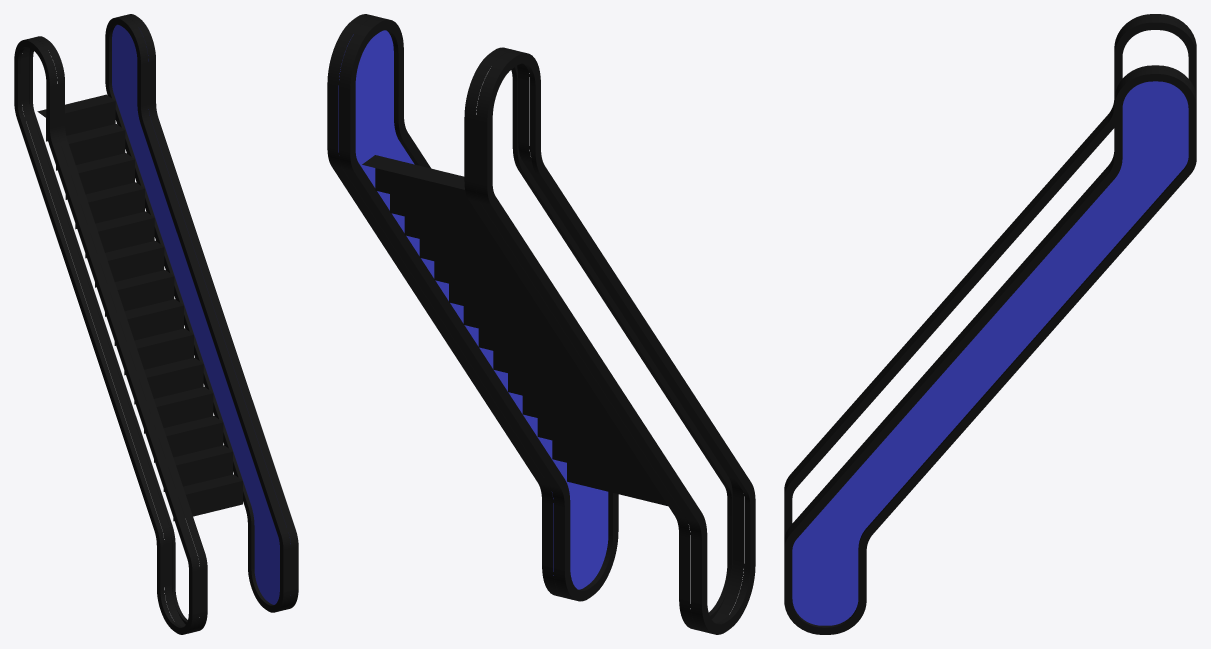
The model's file is downStair.dae.
3 views of the same model, side by side, from view 1: azimuth 30°, elevation 25°; view 2: azimuth 150°, elevation 25°; view 3: azimuth 270°, elevation 25° (orthographic). The views are drawn at different scales.
Visible parts, largest first — view 1: floor.1, r2.1, l2.1, l2; view 2: r2.1, floor.1, l2.1, l2; view 3: l2, l2.1, r2.1.
Part boxes in pixels (box(x1,y1,x2,y2)): floor.1: box(37, 94, 242, 521); r2.1: box(14, 36, 207, 634); l2.1: box(105, 14, 298, 612); l2: box(112, 24, 290, 604); r2.1: box(464, 47, 755, 634); floor.1: box(362, 155, 667, 505); l2.1: box(327, 14, 618, 601); l2: box(338, 30, 608, 589); l2: box(792, 81, 1188, 625); l2.1: box(784, 65, 1196, 634); r2.1: box(784, 14, 1196, 537).
Bounding box in the file's own units: 0.6883 × 3 × 2.
